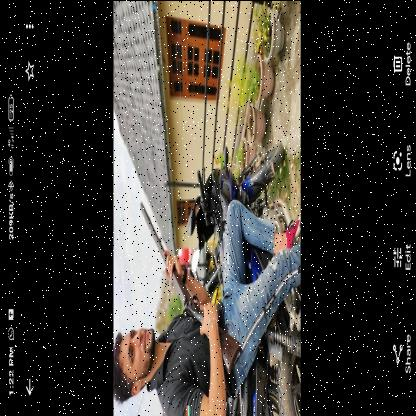rifle: (139, 200, 243, 376)
